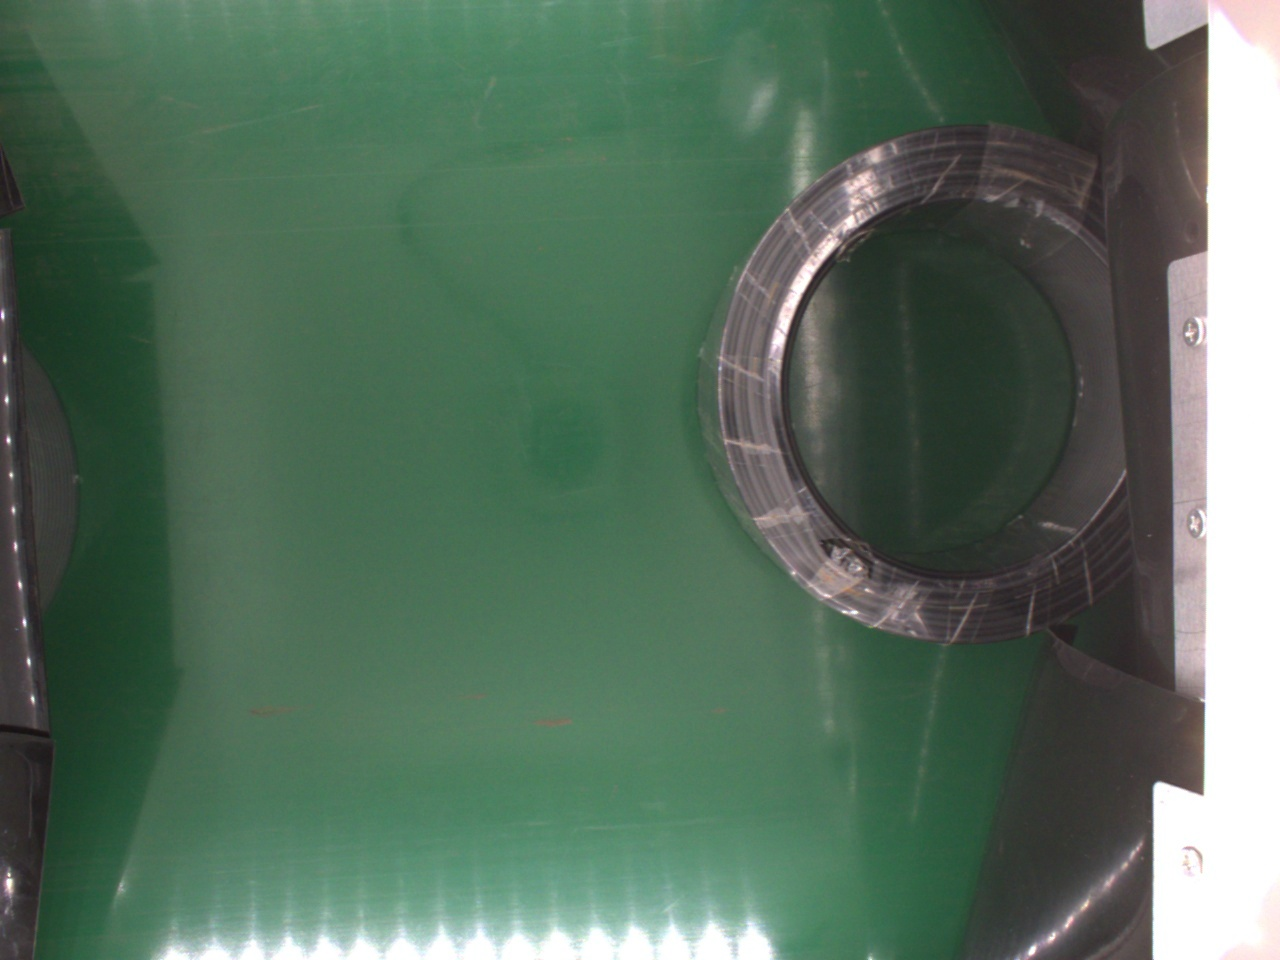black: (692, 120, 1137, 643)
